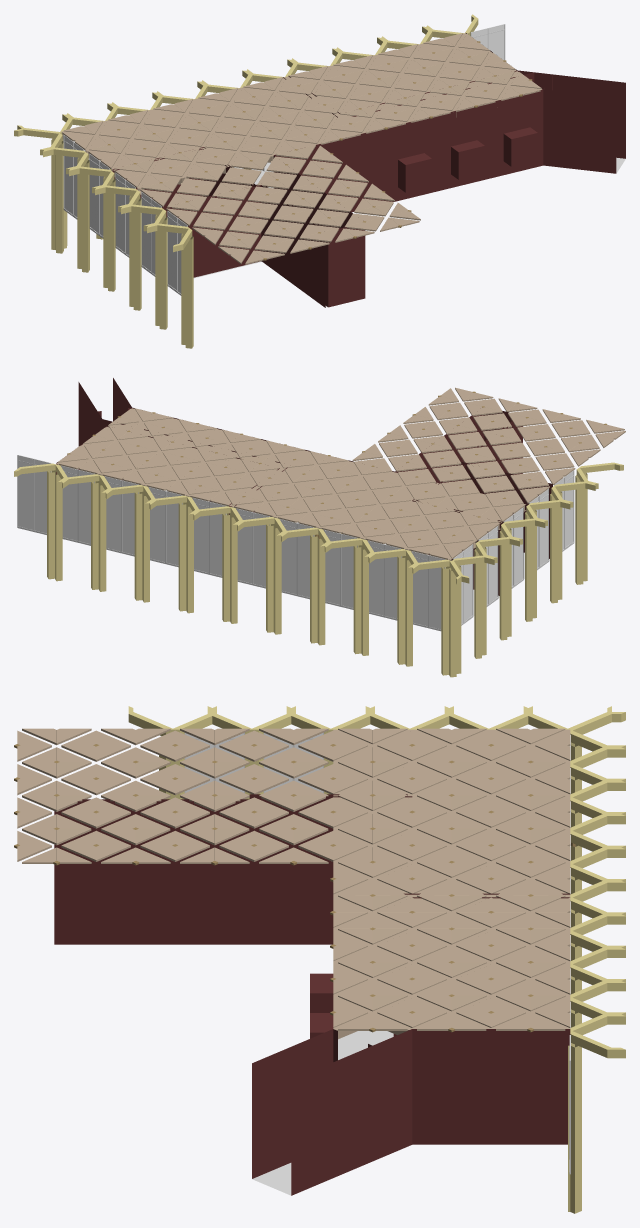
The model's file is WestPavillion_V1.glb.
3 renders of one model, top to bottom at view 1: azimuth 30°, elevation 25°; view 2: azimuth 150°, elevation 25°; view 3: azimuth 270°, elevation 25°, orthographic. The views are drawn at different scales.
Parts seen in each view (by area): view 1: Walls_Pavillion, Cieling Panels.001, Cieling Panels.002, Cube.001, Cieling supports.001, Cube.009, Cube.033, Cube.007, Cube.008; view 2: Cieling Panels.001, Cube.033, Cube.008, Cieling Panels.002, Cube.001, Cieling supports.001, Walls_Pavillion, Cube.009, Cube.006, Cube.007; view 3: Cieling Panels.001, Walls_Pavillion, Cieling Panels.002, Cieling supports.001, Cube.033, Cube.001, Floor_Pavillion, Cube.009, Cieling supports.002.
Part boxes in pixels (x1,y1,x2,y2): Walls_Pavillion: [112, 33, 625, 307]; Cieling Panels.001: [62, 88, 420, 264]; Cieling Panels.002: [242, 33, 541, 144]; Cube.001: [14, 128, 193, 348]; Cieling supports.001: [61, 33, 542, 194]; Cube.009: [64, 136, 186, 293]; Cube.033: [17, 14, 478, 249]; Cube.007: [63, 135, 187, 295]; Cube.008: [74, 25, 504, 159]; Cieling Panels.001: [276, 387, 625, 559]; Cube.033: [14, 463, 462, 677]; Cube.008: [18, 455, 444, 629]; Cieling Panels.002: [58, 408, 349, 516]; Cube.001: [449, 462, 623, 676]; Cieling supports.001: [56, 408, 525, 560]; Walls_Pavillion: [56, 378, 552, 595]; Cube.009: [454, 471, 573, 623]; Cube.006: [17, 455, 445, 631]; Cube.007: [453, 470, 574, 625]; Cieling Panels.001: [17, 728, 570, 863]; Walls_Pavillion: [54, 794, 570, 1195]; Cieling Panels.002: [333, 862, 570, 1030]; Cieling supports.001: [333, 729, 570, 1039]; Cube.033: [568, 712, 625, 1213]; Cube.001: [128, 706, 611, 799]; Floor_Pavillion: [252, 1031, 393, 1195]; Cube.009: [185, 733, 322, 792]; Cieling supports.002: [14, 744, 533, 865].
Size of the model in its own units: 38.3 by 8.5 by 26.34.
